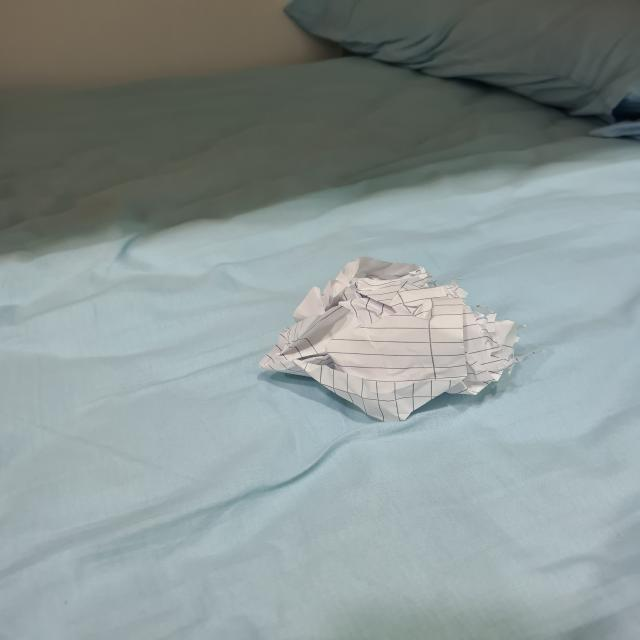Paper: (266, 267, 515, 415)
